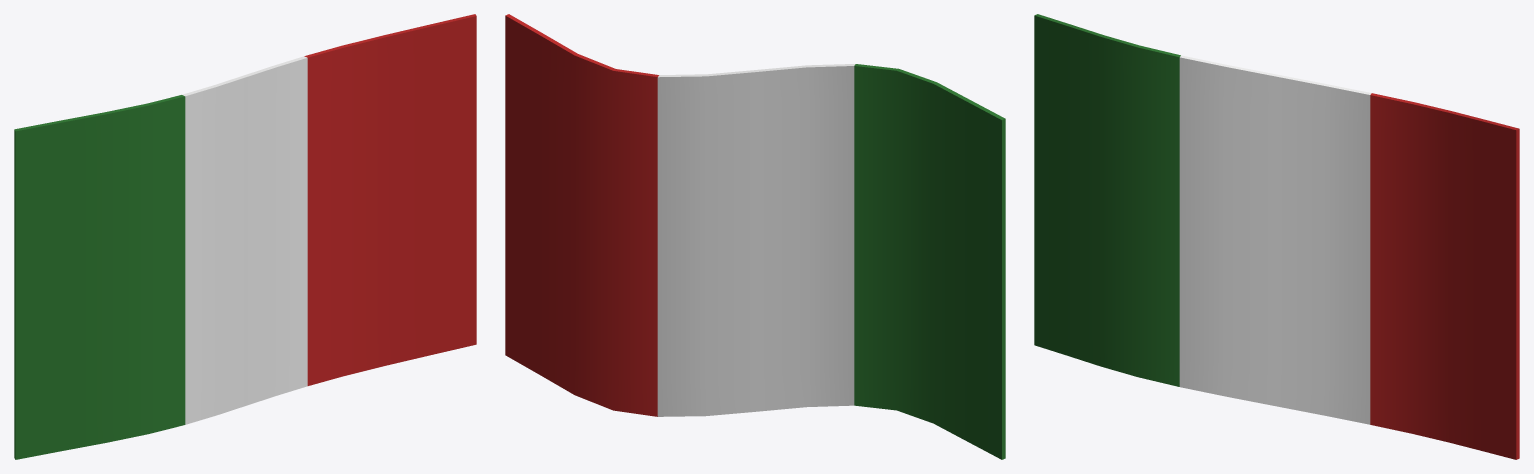
File: flag_italy.glb
3 renders of one model, left to right at view 1: azimuth 30°, elevation 25°; view 2: azimuth 150°, elevation 25°; view 3: azimuth 330°, elevation 25°, orthographic. The views are drawn at different scales.
Parts seen in each view (by area): view 1: Plane.457; view 2: Plane.457; view 3: Plane.457.
Boxes of the visible parts, left/top/right/bottom form: Plane.457: left=14, top=14, right=476, bottom=459; Plane.457: left=505, top=14, right=1005, bottom=459; Plane.457: left=1034, top=14, right=1519, bottom=459.
Size of the model in its own units: 2.18 by 1.58 by 0.3373.
Materials: 1 (1 with a texture image).
